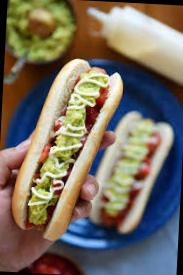Completos: (6, 52, 133, 250)
